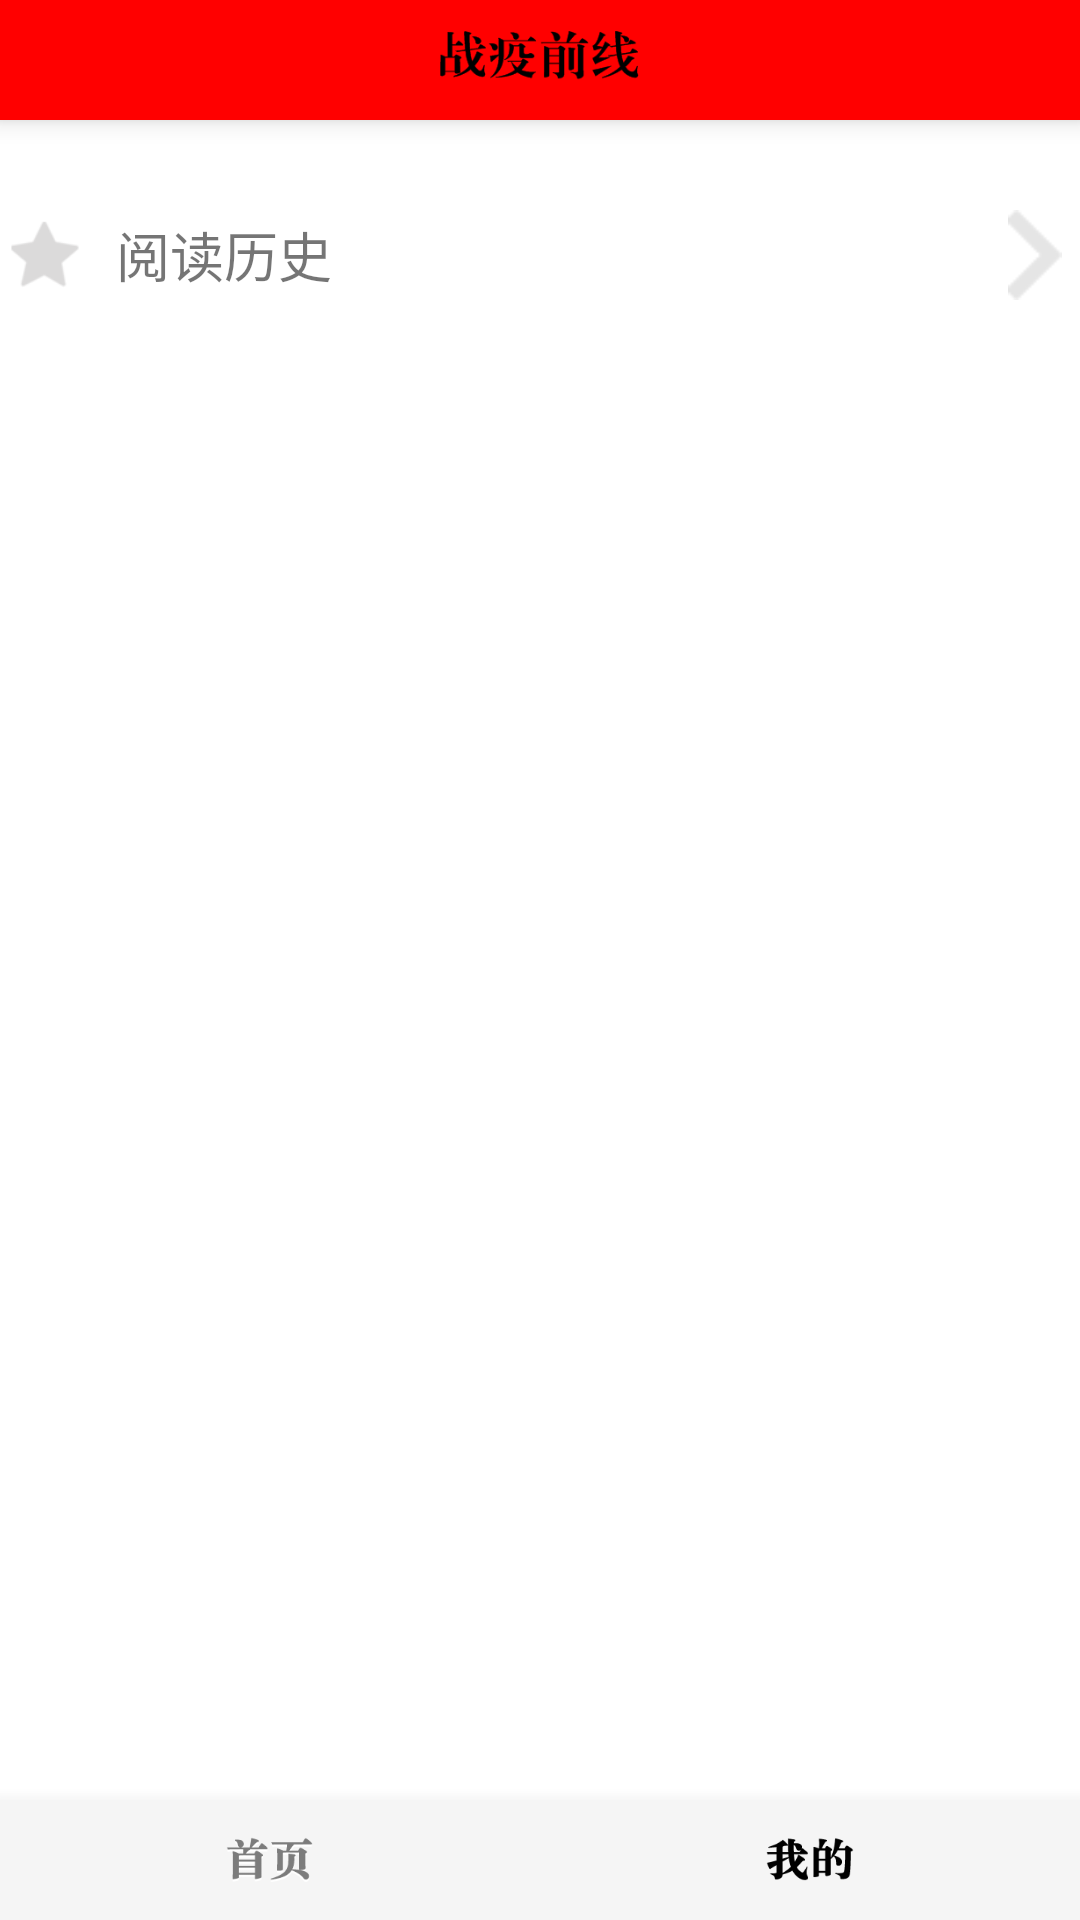

Icon bounding boxes for this 1080px x 1920px phone screenshot, format region(x1, y1, x2, y2):
collection: region(12, 222, 78, 286)
right arrow: region(1008, 213, 1058, 297)
